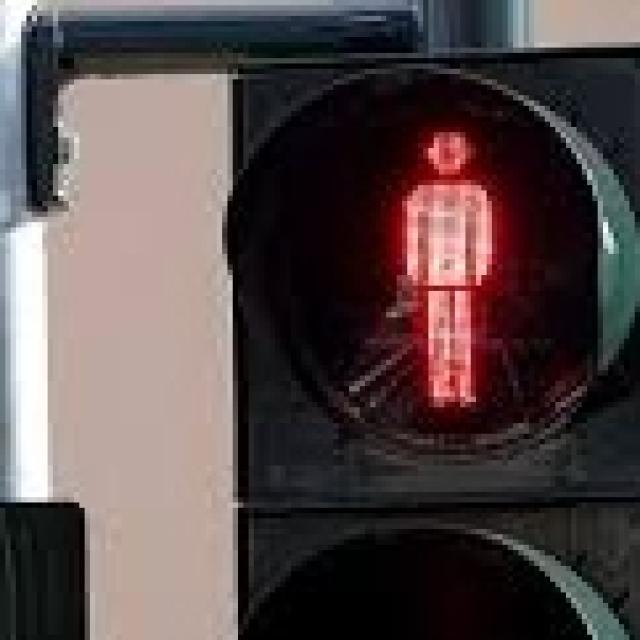red-crossing: (343, 90, 540, 423)
